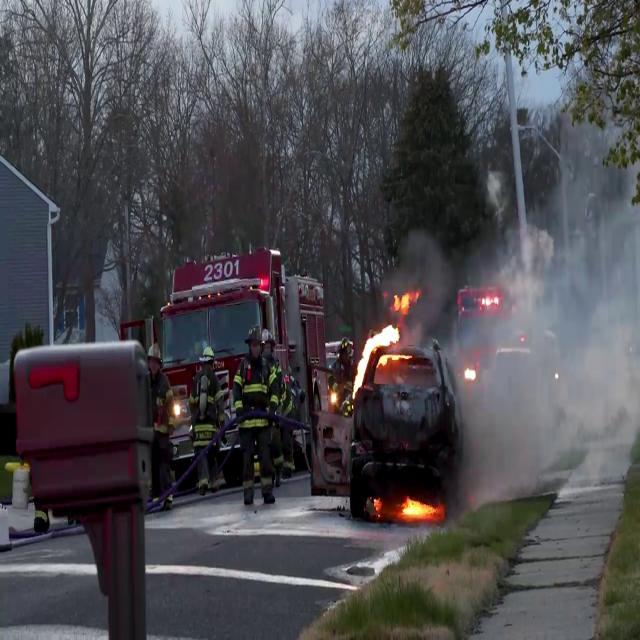Fire: (352, 305, 404, 394), (396, 489, 436, 526)
Smoke: (454, 106, 640, 506)
